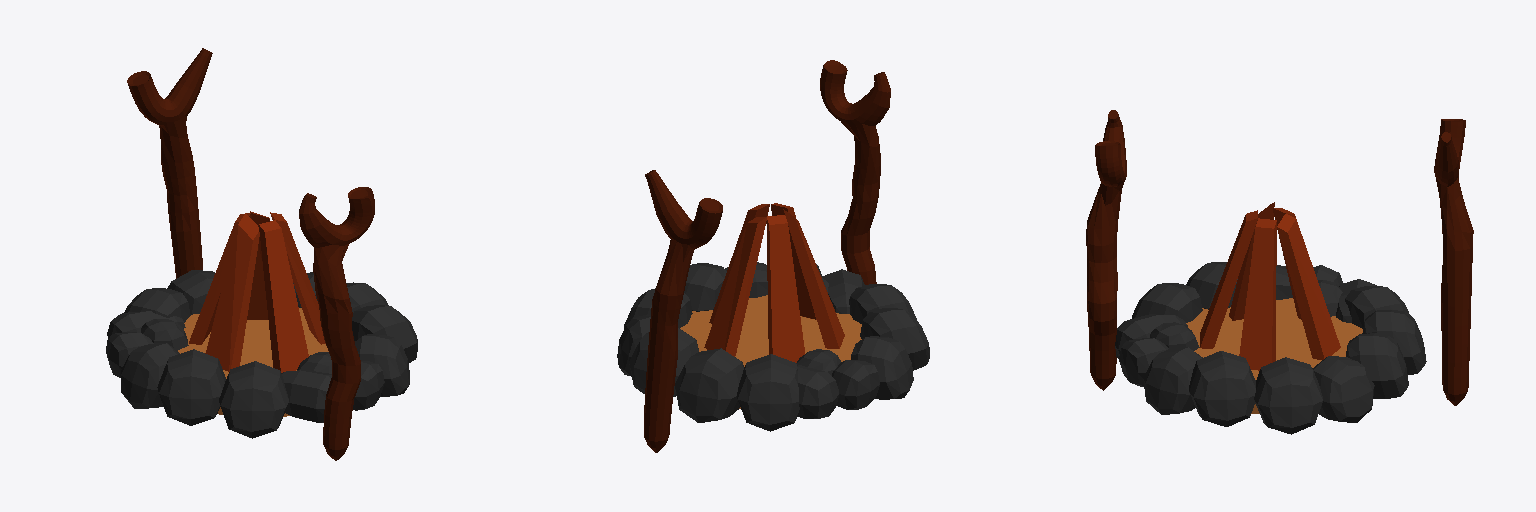
Rendered from campfire.obj.
The picture shows the model from 3 angles: view 1: azimuth 30°, elevation 25°; view 2: azimuth 150°, elevation 25°; view 3: azimuth 270°, elevation 25°; orthographic projection.
Parts seen in each view (by area): view 1: campfire; view 2: campfire; view 3: campfire.
Part boxes in pixels (bbox=[...]): campfire: bbox=[106, 48, 417, 460]; campfire: bbox=[617, 60, 929, 452]; campfire: bbox=[1086, 110, 1473, 434].
Bounding box in the file's own units: 3.67 × 3.63 × 4.58.